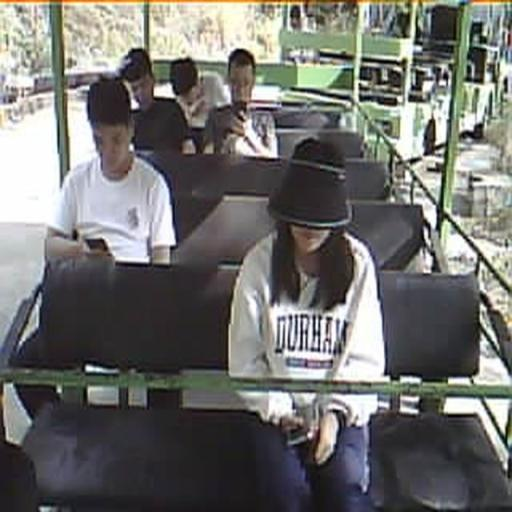persona: (226, 136, 388, 510), (44, 78, 178, 268), (114, 46, 197, 156), (200, 48, 280, 158), (169, 57, 230, 128)
